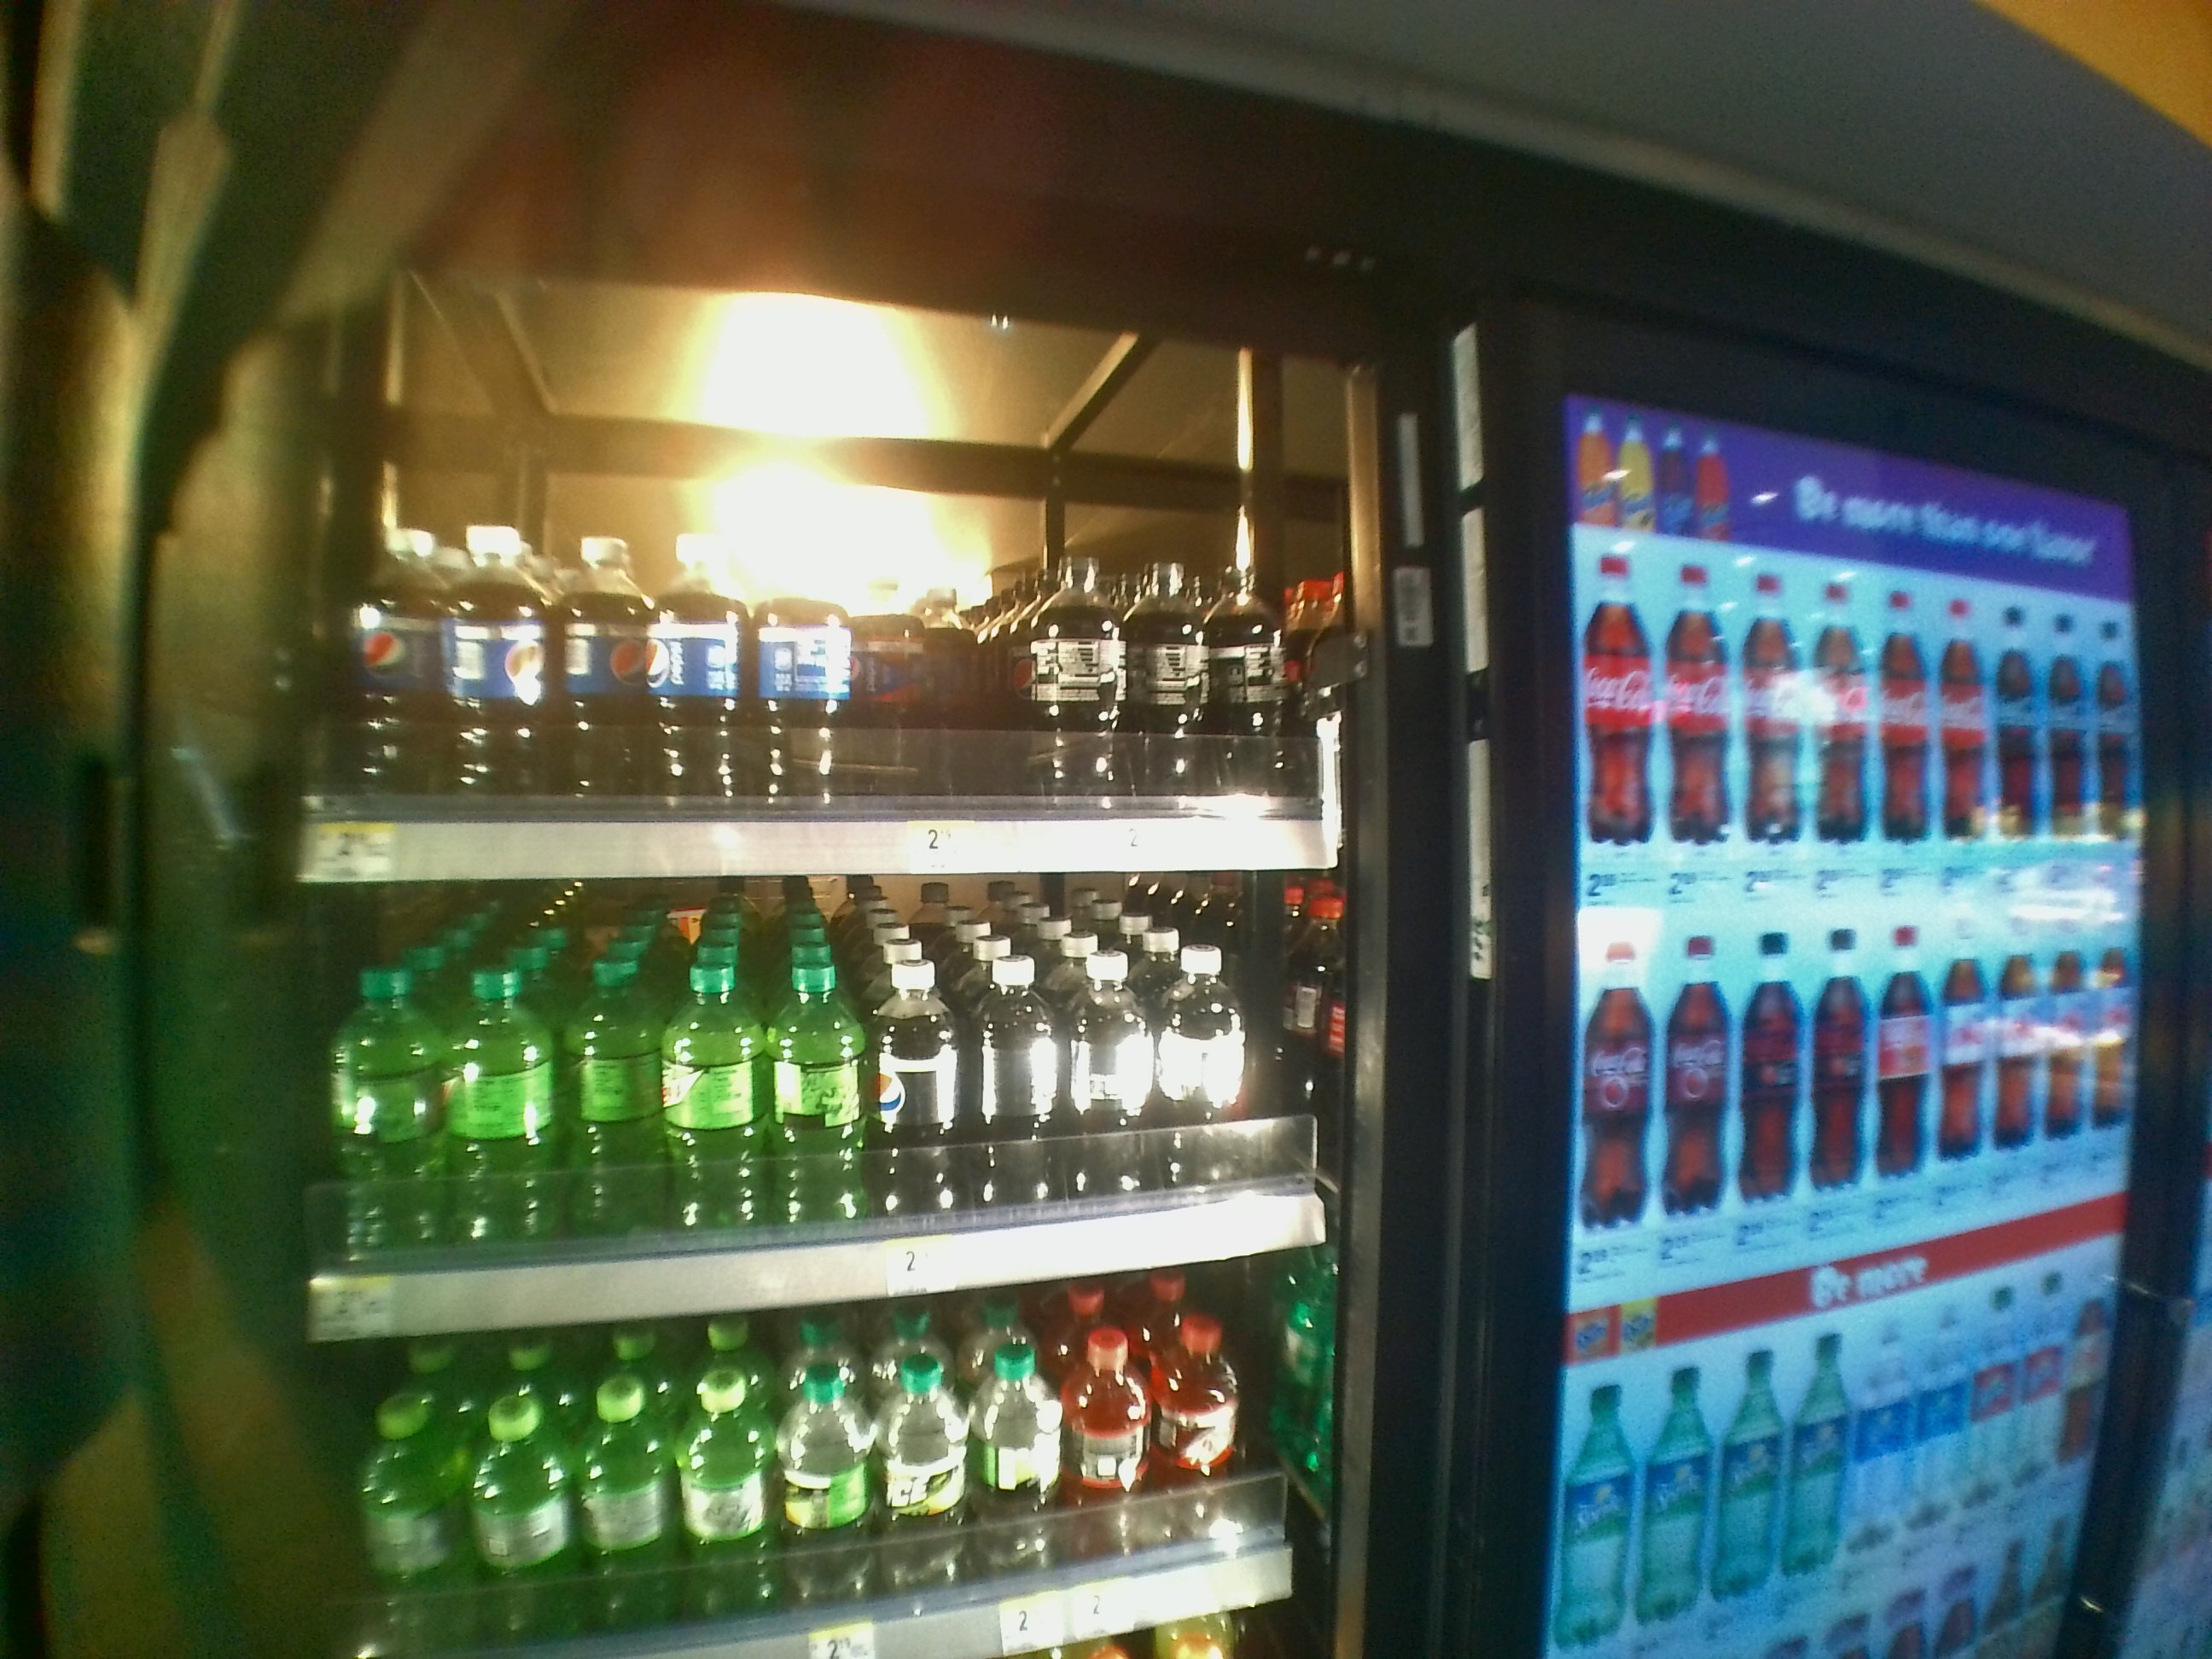shelf: (305, 246, 1372, 877), (279, 889, 1334, 1262)
